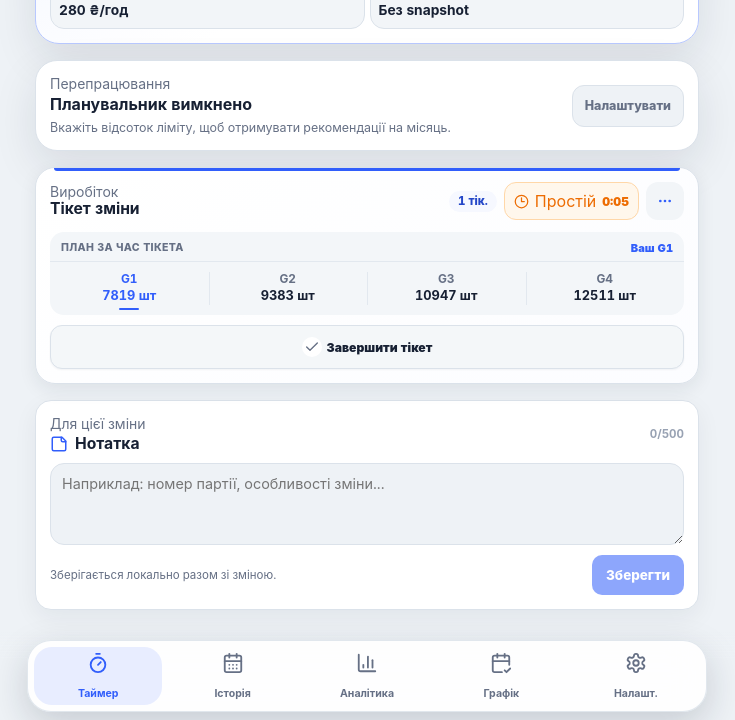
Scenario: MainPage active shift › saves a local note for the active shift
(page scrolled)
Expected: the button "Зберегти" is disabled, [592,556,684,596]
Type "Перевірити партію №42" into the text box named "Нотатка до зміни". click: point(367, 504)
box: [50,463,684,546]
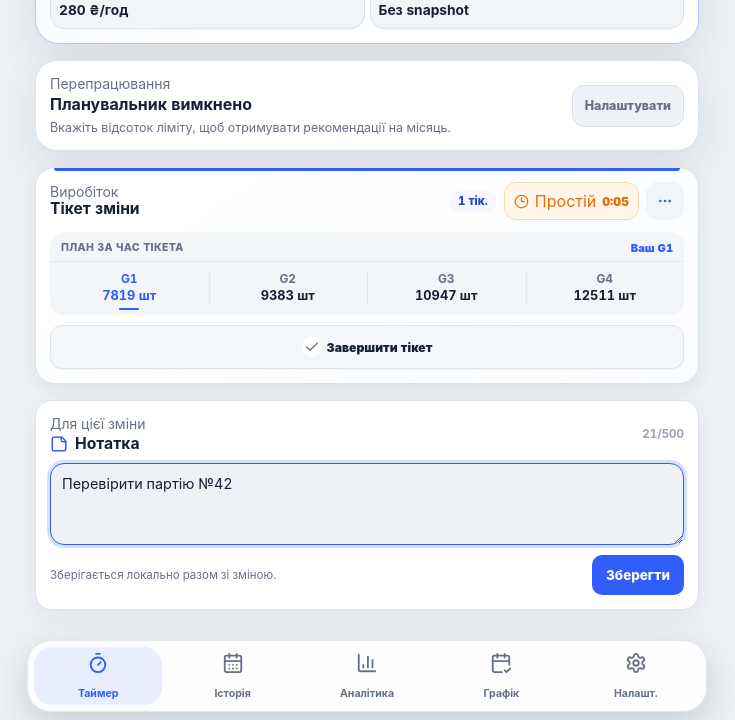
Now the text named "21 із 500 символів" is shown, box [642,427,684,441]
Now the button "Зберегти" is enabled
Click the button "Зберегти". click: point(638, 576)
box: [592,556,684,596]
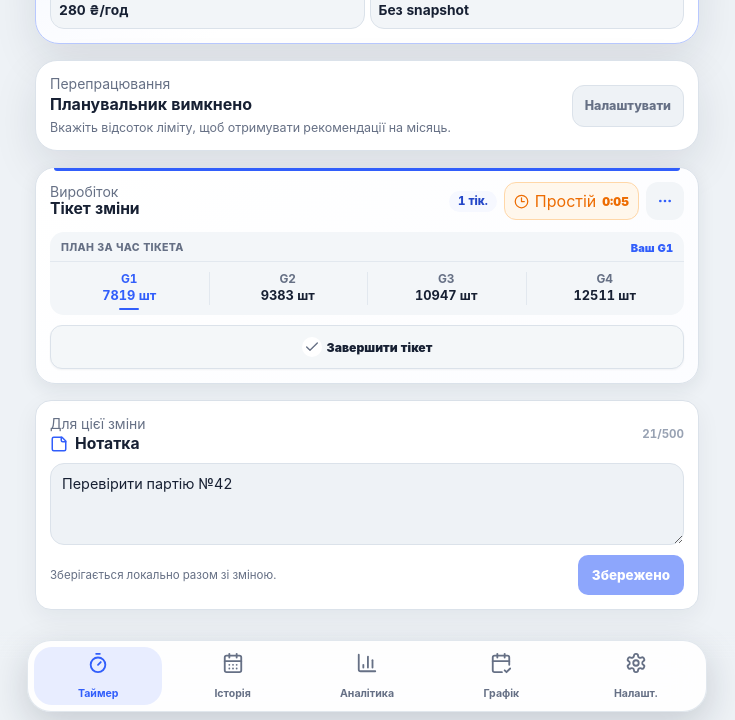
Now the button "Збережено" is disabled, box [578,556,684,596]
